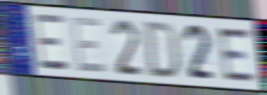2: (183, 23, 220, 82), (109, 17, 144, 78)
D: (144, 20, 181, 81)
E: (215, 27, 259, 83), (31, 13, 72, 72), (69, 15, 109, 75)
